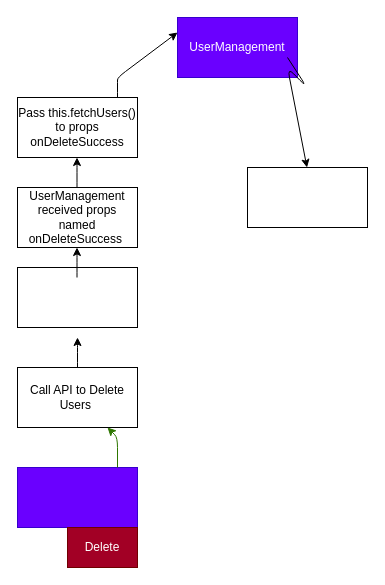
This 385x585 diagram has some shape labels left out. Each missing label, with the box of its shape:
API updated - create and call props to UserManagement: (16, 266, 138, 328)
Call API again to update and render state Users: (246, 166, 368, 228)
UserList: (16, 466, 138, 528)
